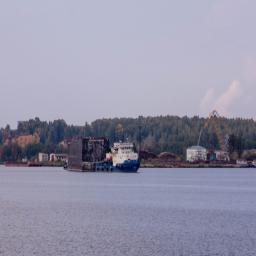tugboat: (94, 138, 142, 177)
